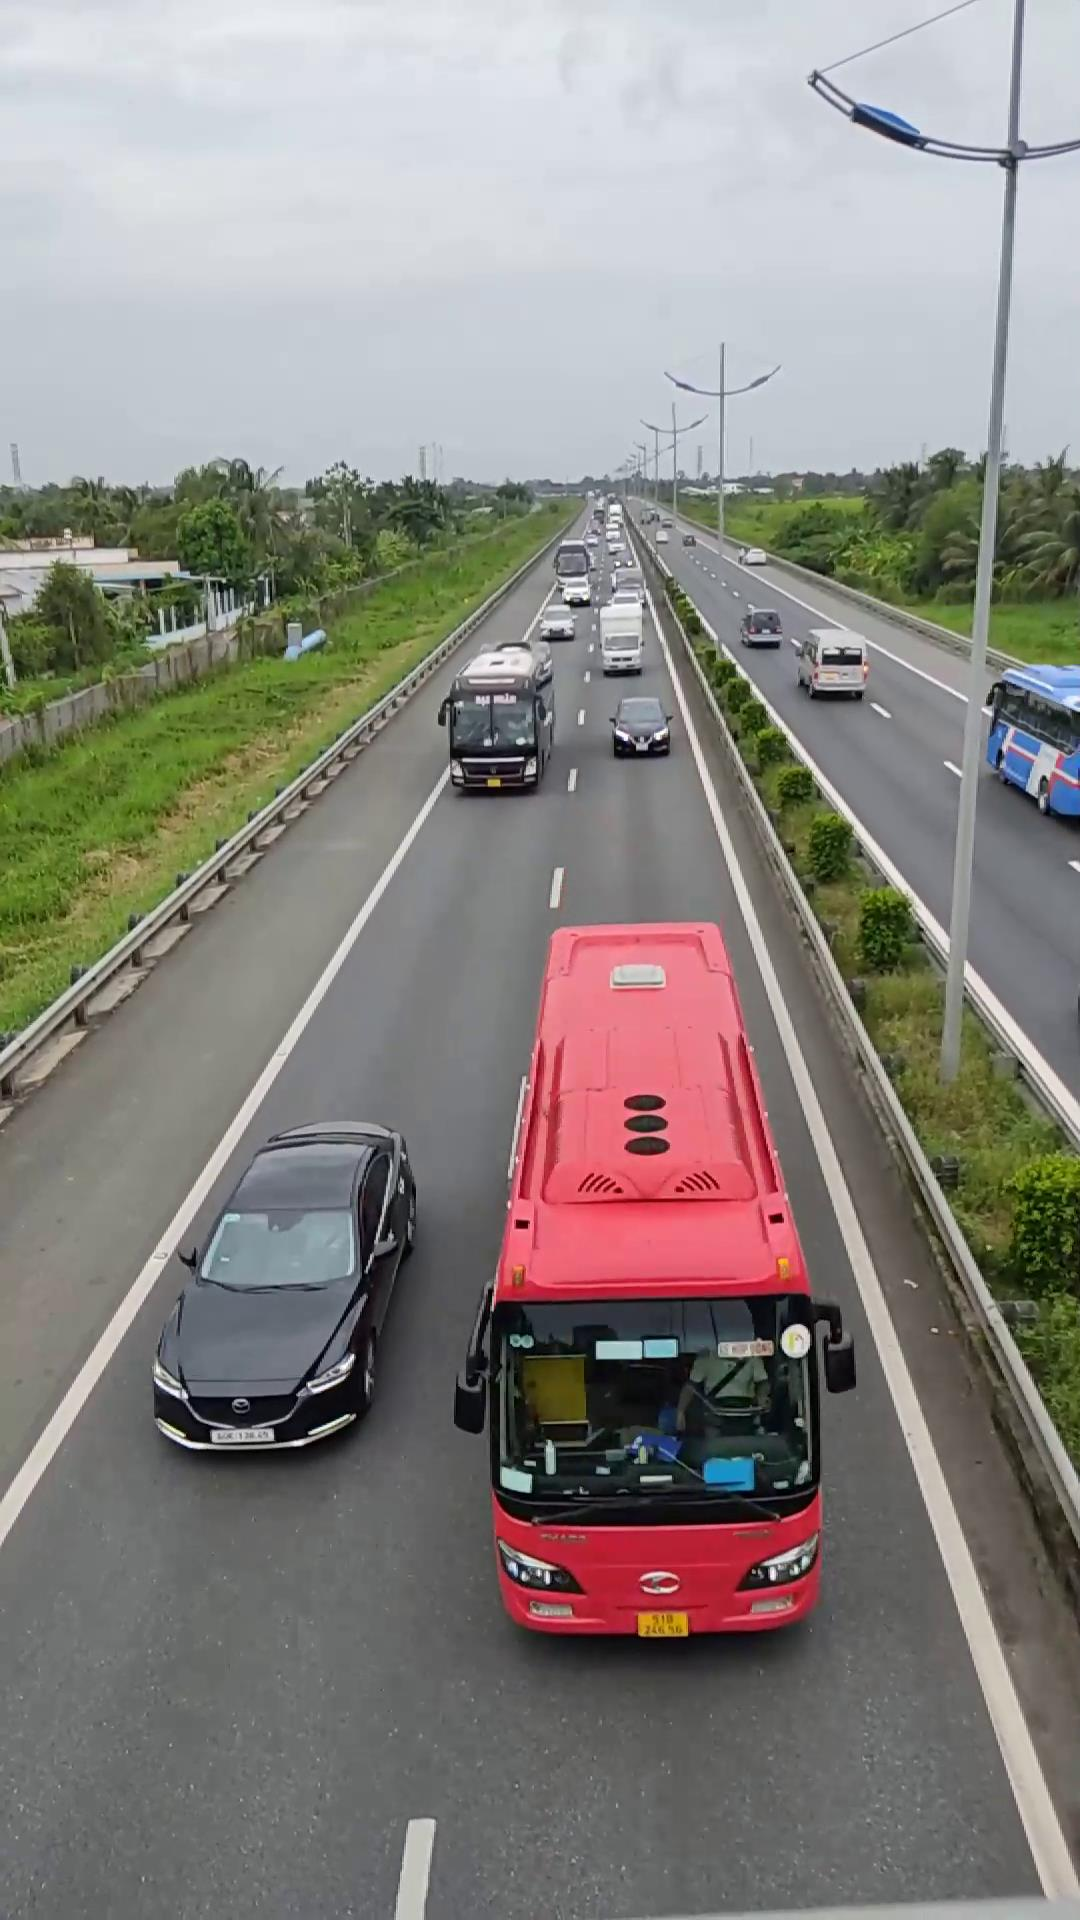bus: (462, 917, 849, 1641), (441, 641, 557, 798)
car: (149, 1119, 420, 1453), (793, 624, 870, 700)
truck: (982, 660, 1077, 818)
